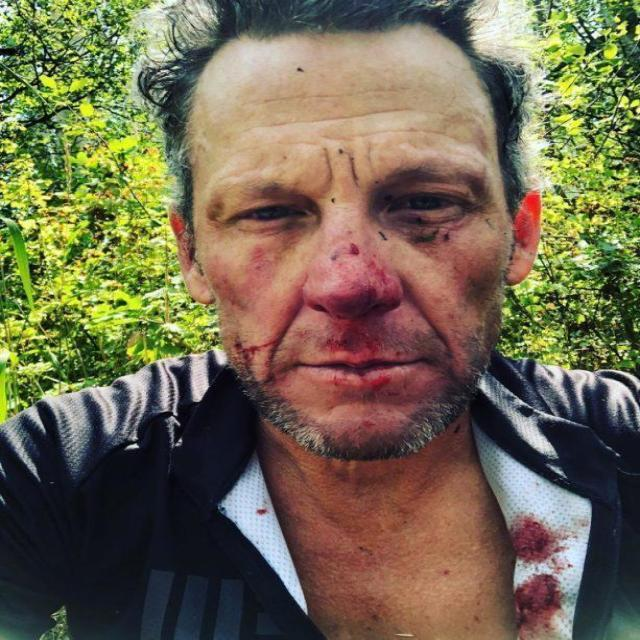flood: (516, 574, 564, 634), (512, 508, 554, 567)
